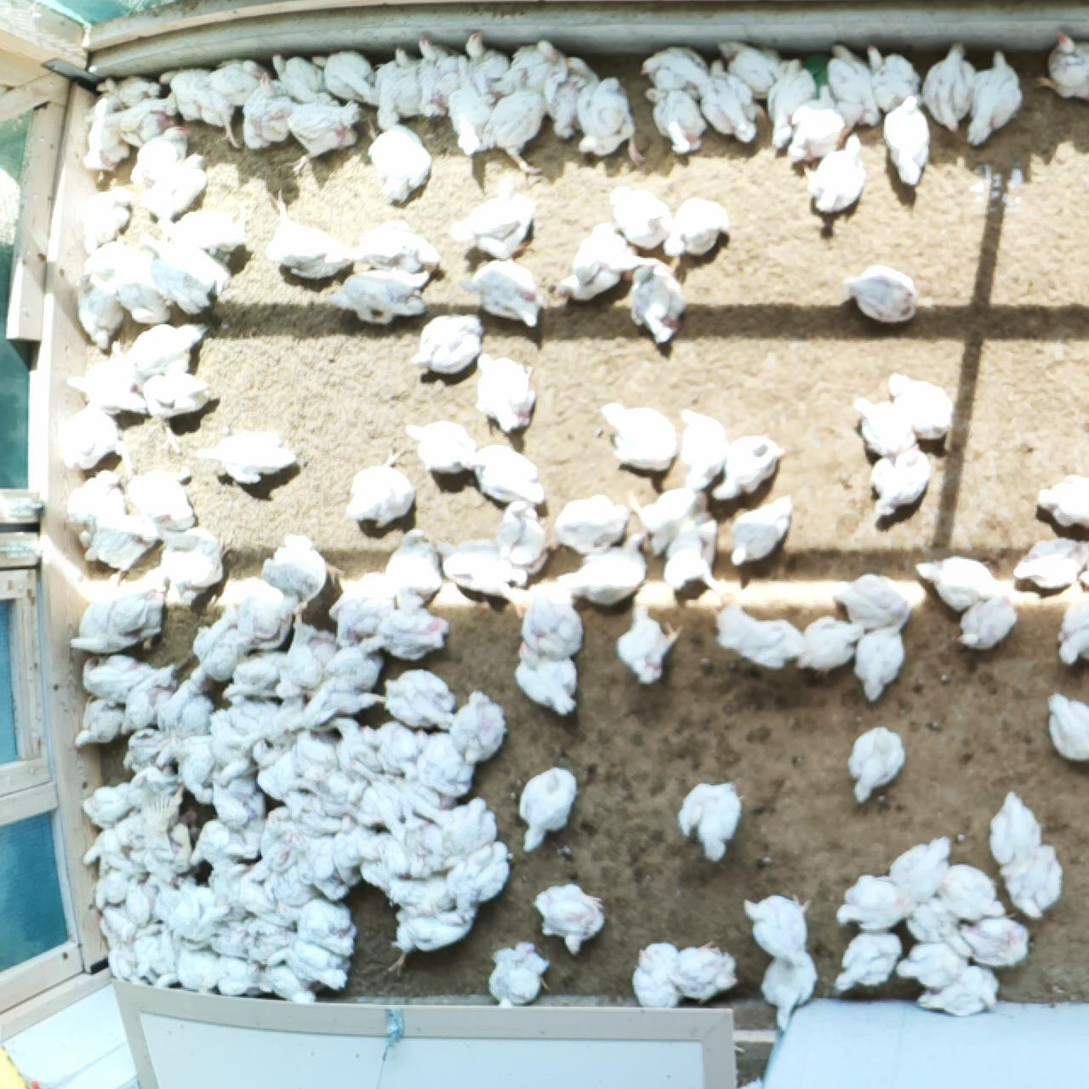chicken: (543, 219, 657, 301), (264, 190, 353, 287), (478, 65, 549, 178), (138, 232, 231, 317), (267, 93, 362, 175), (447, 184, 541, 262), (573, 72, 645, 171), (70, 579, 164, 654), (709, 600, 805, 673), (540, 38, 607, 141), (321, 269, 437, 328), (356, 589, 449, 662), (563, 529, 650, 607), (385, 905, 477, 978), (458, 255, 545, 330), (678, 778, 752, 866), (196, 428, 301, 490), (960, 49, 1025, 147), (207, 56, 273, 152), (435, 535, 530, 601), (350, 212, 447, 276), (619, 254, 685, 348), (64, 353, 151, 424), (121, 317, 209, 386), (663, 516, 734, 600), (457, 444, 550, 508), (329, 567, 401, 649), (214, 577, 296, 649), (738, 891, 815, 967), (534, 880, 610, 956), (826, 37, 882, 140), (802, 132, 868, 219), (922, 40, 983, 134), (612, 603, 681, 686), (472, 349, 539, 434), (599, 398, 677, 471), (625, 486, 703, 557), (731, 493, 799, 574), (754, 947, 818, 1033), (346, 445, 413, 527), (712, 432, 786, 506), (837, 262, 925, 324), (404, 313, 485, 380), (881, 90, 933, 194), (882, 368, 955, 442), (518, 765, 578, 855), (696, 57, 758, 143), (514, 640, 583, 717), (554, 491, 634, 557), (488, 940, 553, 1021), (258, 534, 330, 607), (984, 790, 1048, 872), (847, 725, 911, 807), (521, 579, 585, 661), (830, 572, 915, 633), (155, 207, 250, 261), (911, 552, 1001, 609), (660, 193, 734, 262), (833, 930, 909, 997), (898, 894, 976, 959), (765, 57, 818, 152), (834, 873, 919, 932), (862, 40, 927, 117), (870, 446, 935, 523), (890, 835, 954, 913), (447, 841, 513, 916), (85, 507, 160, 573), (286, 832, 357, 901), (273, 899, 356, 958), (269, 931, 349, 992), (158, 527, 223, 602), (784, 84, 842, 168), (1001, 844, 1064, 921), (141, 153, 208, 225), (914, 965, 1005, 1018), (415, 35, 471, 121), (851, 621, 908, 705), (126, 468, 196, 536), (668, 938, 741, 1003), (56, 403, 121, 476), (134, 369, 218, 425), (641, 80, 706, 152), (441, 794, 501, 871), (375, 42, 432, 122), (607, 183, 676, 249), (63, 469, 128, 539), (377, 669, 454, 728), (440, 75, 496, 156), (935, 860, 1009, 921), (630, 937, 686, 1017), (639, 43, 711, 105), (793, 616, 865, 678), (285, 613, 345, 687), (78, 96, 137, 171), (460, 29, 515, 109), (412, 726, 473, 798), (382, 526, 442, 599), (1033, 28, 1089, 106), (130, 124, 196, 190), (448, 689, 506, 764), (241, 71, 294, 152), (116, 91, 181, 157), (401, 418, 479, 473), (957, 913, 1033, 969), (855, 393, 921, 457), (299, 681, 387, 728), (1011, 536, 1089, 589), (157, 733, 219, 799), (311, 49, 383, 105), (120, 659, 179, 727), (76, 184, 133, 254), (496, 497, 551, 569), (953, 591, 1021, 649), (687, 407, 735, 489), (318, 640, 387, 697), (159, 66, 223, 127), (352, 834, 417, 894), (332, 717, 397, 777), (167, 882, 232, 942), (76, 270, 124, 351), (896, 940, 975, 989), (718, 38, 788, 93), (363, 721, 428, 778), (1041, 687, 1089, 764), (170, 944, 237, 999), (251, 738, 304, 807), (384, 874, 456, 924), (387, 817, 448, 876), (279, 789, 353, 837), (207, 716, 260, 783), (1031, 472, 1089, 532), (1051, 574, 1089, 665), (162, 678, 216, 740), (97, 915, 144, 986), (232, 649, 297, 700), (112, 265, 169, 323), (382, 766, 446, 817), (193, 623, 252, 678), (328, 815, 373, 887), (136, 866, 188, 928), (125, 768, 188, 819), (349, 771, 408, 825), (222, 686, 275, 746), (83, 233, 145, 284), (84, 780, 148, 829), (128, 919, 177, 982), (258, 960, 319, 1010), (138, 823, 186, 886), (267, 846, 320, 902), (83, 829, 144, 877), (291, 731, 348, 782), (71, 697, 124, 751), (214, 954, 274, 1001), (213, 780, 265, 834), (81, 651, 154, 689), (267, 688, 319, 741), (92, 68, 164, 106), (118, 725, 172, 775), (318, 768, 371, 818), (238, 869, 288, 922), (192, 819, 240, 874), (269, 50, 325, 97), (243, 922, 302, 966), (209, 913, 262, 961), (260, 808, 306, 863), (91, 873, 149, 913), (242, 838, 283, 884), (100, 902, 139, 935)
